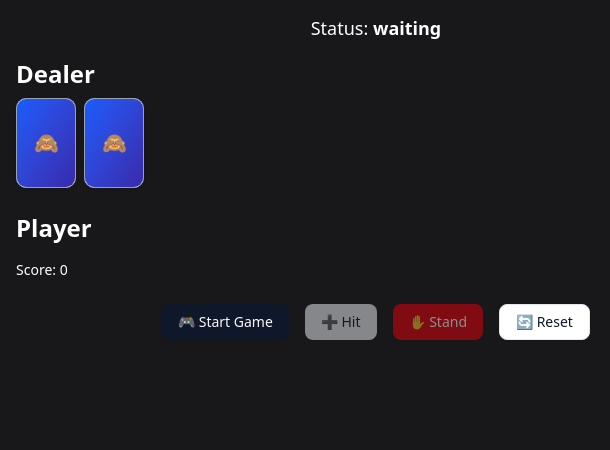
Test case: Blackjack Game › can reset the game
Click the button "🎮 Start Game".
click(226, 322)  # box x1=162 y1=304 x2=289 y2=340
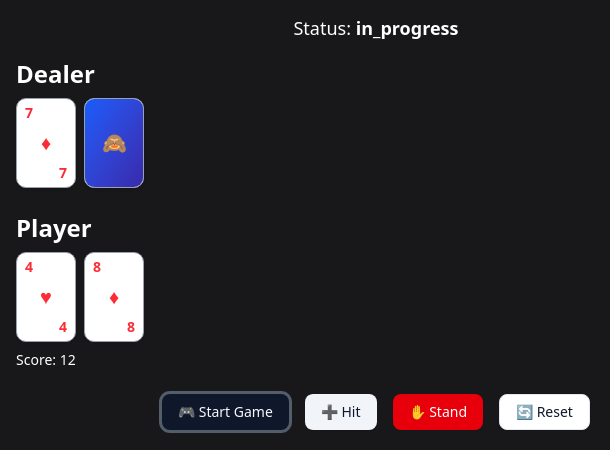
Click the button "🔄 Reset".
click(545, 412)  # box x1=499 y1=394 x2=590 y2=430
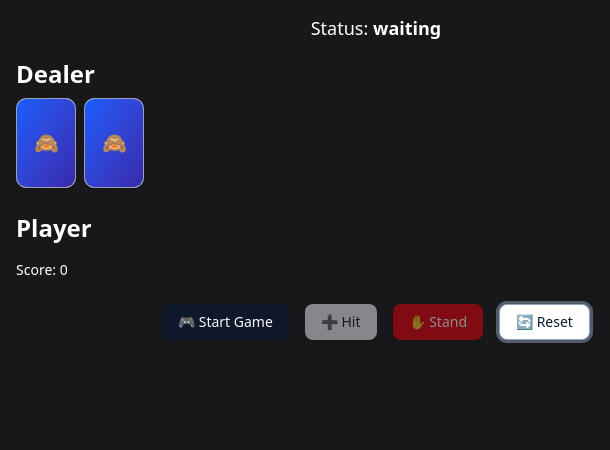
Check: the text "Status: waiting" is shown, box x1=311 y1=16 x2=441 y2=40
